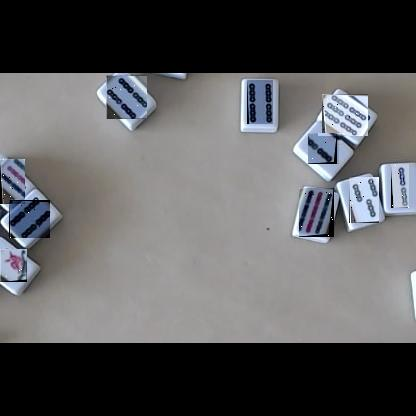1s: (0, 249, 27, 282)
2s: (309, 133, 342, 164), (391, 164, 409, 208)
3s: (349, 177, 379, 223)
4s: (106, 75, 147, 119), (9, 200, 50, 238), (247, 80, 273, 124)
6s: (322, 94, 368, 136)
9s: (299, 188, 334, 237), (0, 159, 25, 204)
